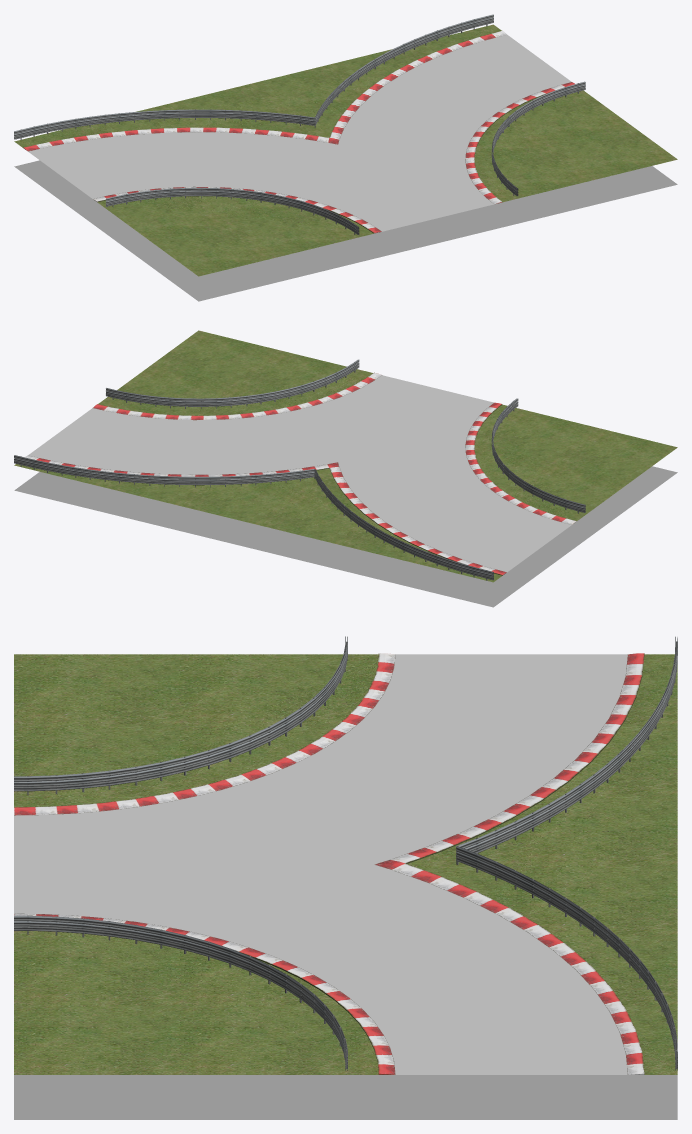
The model's file is Track_Split_A.fbx.
The picture shows the model from 3 angles, top to bottom: view 1: azimuth 30°, elevation 25°; view 2: azimuth 150°, elevation 25°; view 3: azimuth 270°, elevation 25°; orthographic projection. The views are drawn at different scales.
Visible parts, largest first — view 1: Road, Grass, Snap_Plane_Invisible2, Rail_C, Curb_C, Rail_B, Curb_B, Rail_A, Curb_A; view 2: Road, Grass, Snap_Plane_Invisible2, Rail_C, Rail_A, Curb_C, Curb_B, Curb_A, Rail_B; view 3: Road, Grass, Snap_Plane_Invisible2, Curb_C, Rail_C, Rail_B, Rail_A, Curb_A, Curb_B.
Boxes of the visible parts, x1,y1,x2,y2 form: Road: [28, 34, 571, 231]; Grass: [14, 24, 677, 276]; Snap_Plane_Invisible2: [14, 160, 677, 301]; Rail_C: [14, 14, 493, 140]; Curb_C: [23, 30, 506, 203]; Rail_B: [106, 187, 359, 234]; Curb_B: [465, 82, 574, 204]; Rail_A: [491, 81, 585, 196]; Curb_A: [93, 186, 381, 233]; Road: [28, 375, 571, 572]; Grass: [14, 330, 677, 582]; Snap_Plane_Invisible2: [14, 466, 677, 607]; Rail_C: [14, 455, 493, 580]; Rail_A: [106, 359, 359, 408]; Curb_C: [25, 455, 506, 575]; Curb_B: [93, 372, 381, 420]; Curb_A: [465, 402, 576, 524]; Rail_B: [491, 398, 585, 513]; Road: [14, 654, 627, 1074]; Grass: [14, 654, 677, 1074]; Snap_Plane_Invisible2: [14, 1075, 677, 1119]; Curb_C: [374, 653, 644, 1074]; Rail_C: [456, 636, 677, 1070]; Rail_B: [14, 636, 347, 795]; Rail_A: [14, 915, 347, 1070]; Curb_A: [14, 653, 395, 815]; Curb_B: [14, 913, 395, 1074].
Bounding box in the file's own units: 60 × 4.24 × 40.04.
